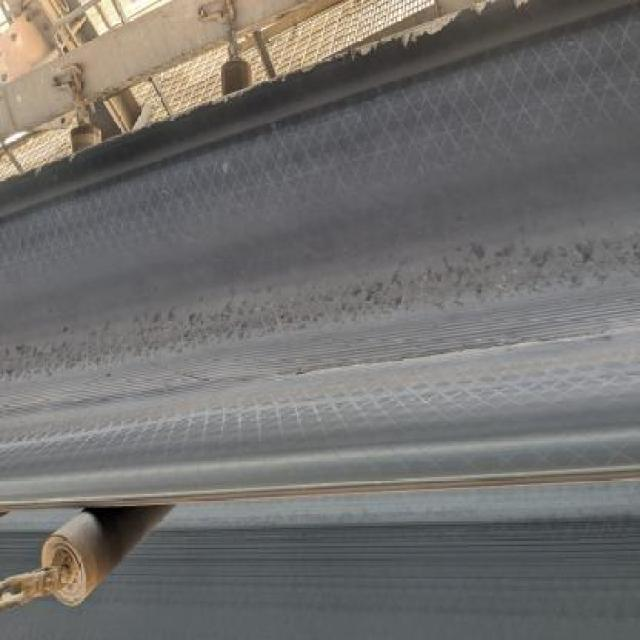Wear: (0, 271, 640, 424)
